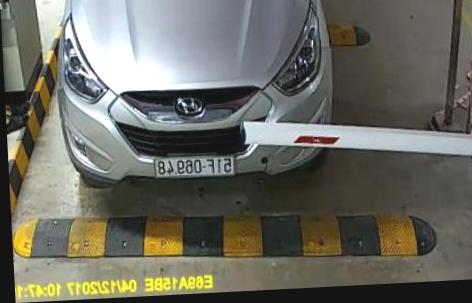License_Plate: (149, 149, 241, 183)
